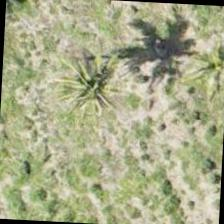Kelapa_Sawit: (57, 39, 152, 134), (168, 19, 223, 114)
